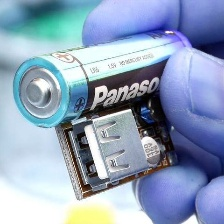battery: (10, 24, 197, 134)
